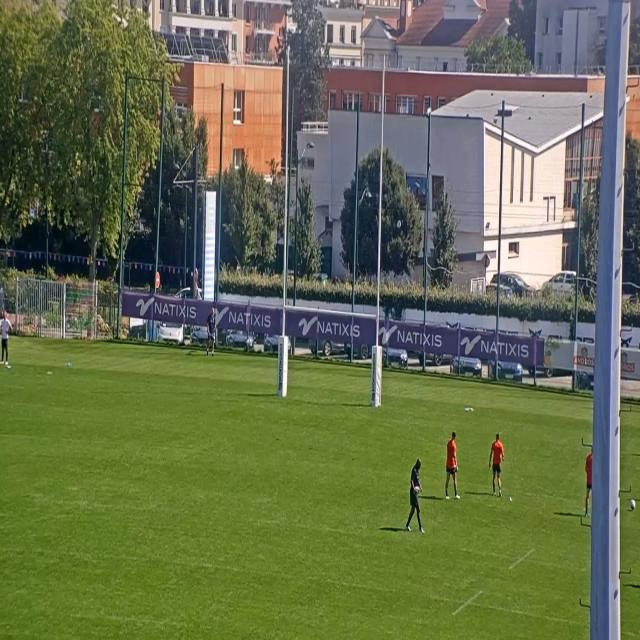rugby ball: (629, 497, 637, 514), (414, 485, 421, 497)
rugby play: (408, 449, 426, 539), (445, 430, 461, 506), (491, 430, 505, 503)
